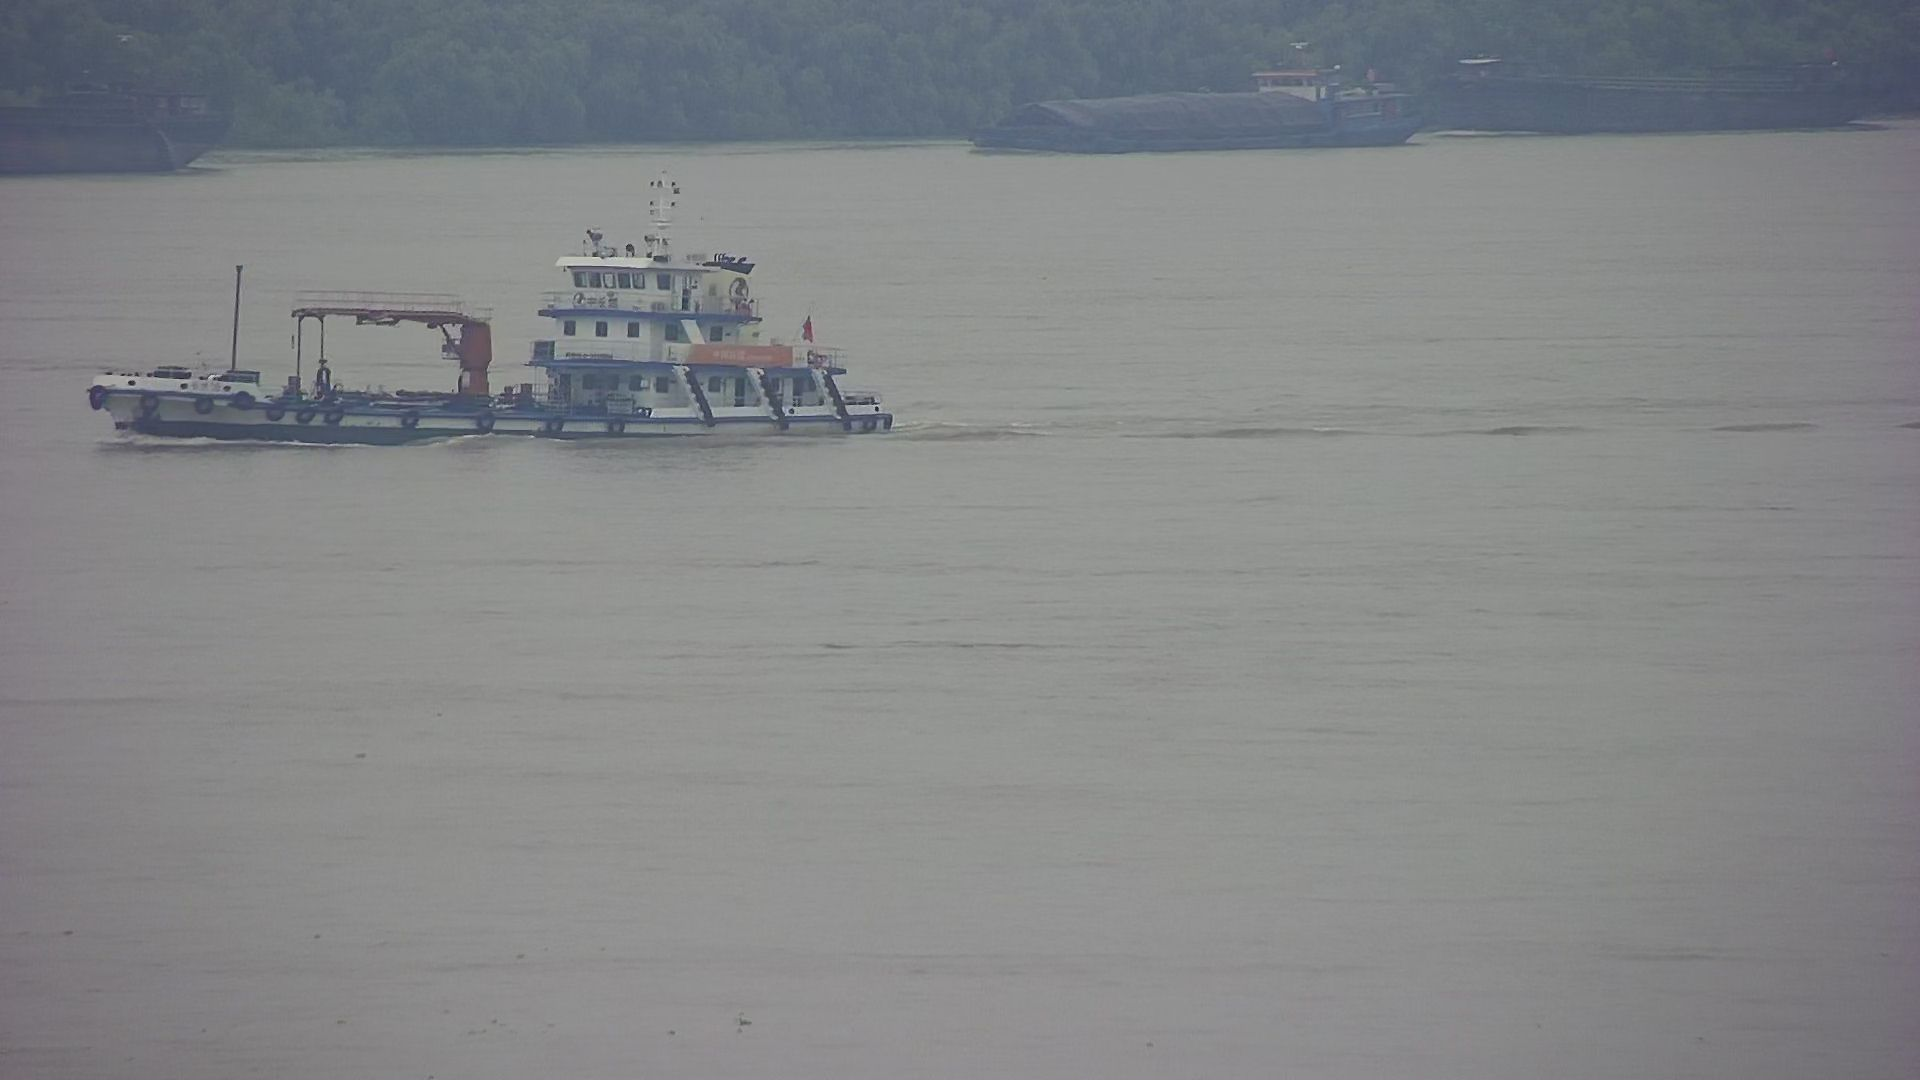ship: (54, 160, 913, 452), (951, 32, 1457, 162), (1455, 42, 1905, 145), (1, 42, 249, 185)
